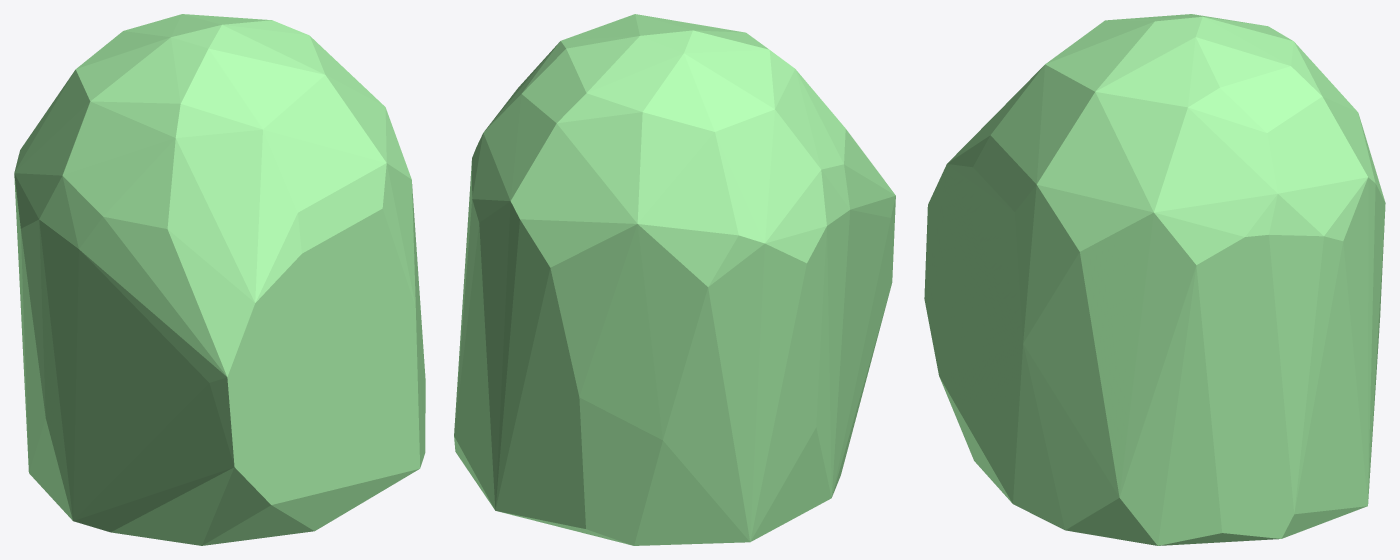
The model's file is palle_scrotali_buone_R_link5_respondable_coll_2.dae.
3 views of the same model, side by side, from view 1: azimuth 30°, elevation 25°; view 2: azimuth 150°, elevation 25°; view 3: azimuth 270°, elevation 25° (orthographic). The views are drawn at different scales.
Parts seen in each view (by area): view 1: Node_000002334E243BC0; view 2: Node_000002334E243BC0; view 3: Node_000002334E243BC0.
Part boxes in pixels (left/top/right/bottom): Node_000002334E243BC0: left=14, top=14, right=425, bottom=545; Node_000002334E243BC0: left=454, top=14, right=895, bottom=545; Node_000002334E243BC0: left=924, top=14, right=1385, bottom=545.
Bounding box in the file's own units: 0.0977 × 0.1165 × 0.1081.
